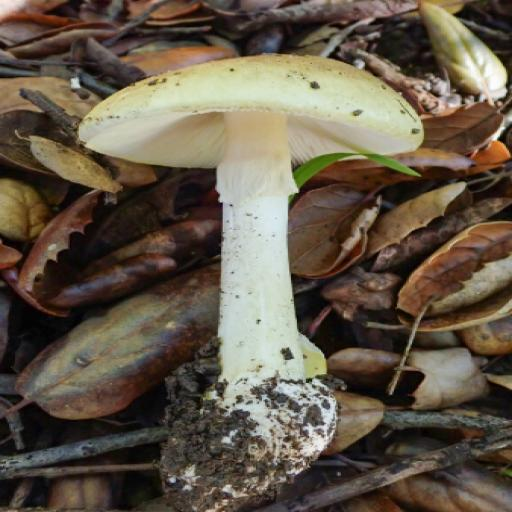Death Cap: (80, 52, 434, 512)
